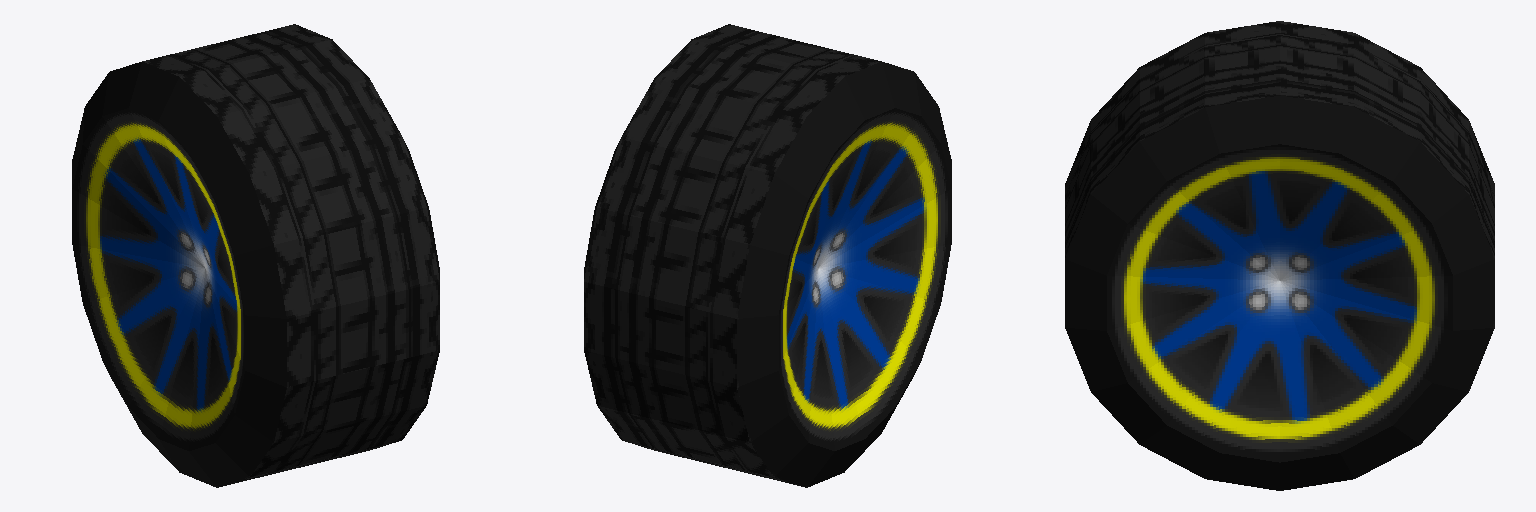
The picture shows the model from 3 angles: view 1: azimuth 30°, elevation 25°; view 2: azimuth 150°, elevation 25°; view 3: azimuth 270°, elevation 25°; orthographic projection.
Parts seen in each view (by area): view 1: wheel_Cylinder01x; view 2: wheel_Cylinder01x; view 3: wheel_Cylinder01x.
Boxes of the visible parts, x1,y1,x2,y2 form: wheel_Cylinder01x: [72, 24, 439, 487]; wheel_Cylinder01x: [584, 24, 951, 487]; wheel_Cylinder01x: [1065, 21, 1494, 490].
Bounding box in the file's own units: 30.68 × 59.69 × 58.78.
1 materials, 1 textured.